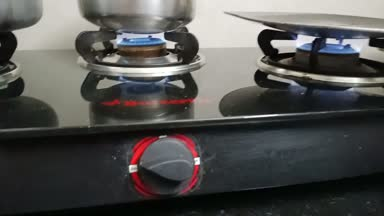flame_gas_on: (81, 23, 200, 198), (280, 30, 382, 77)
